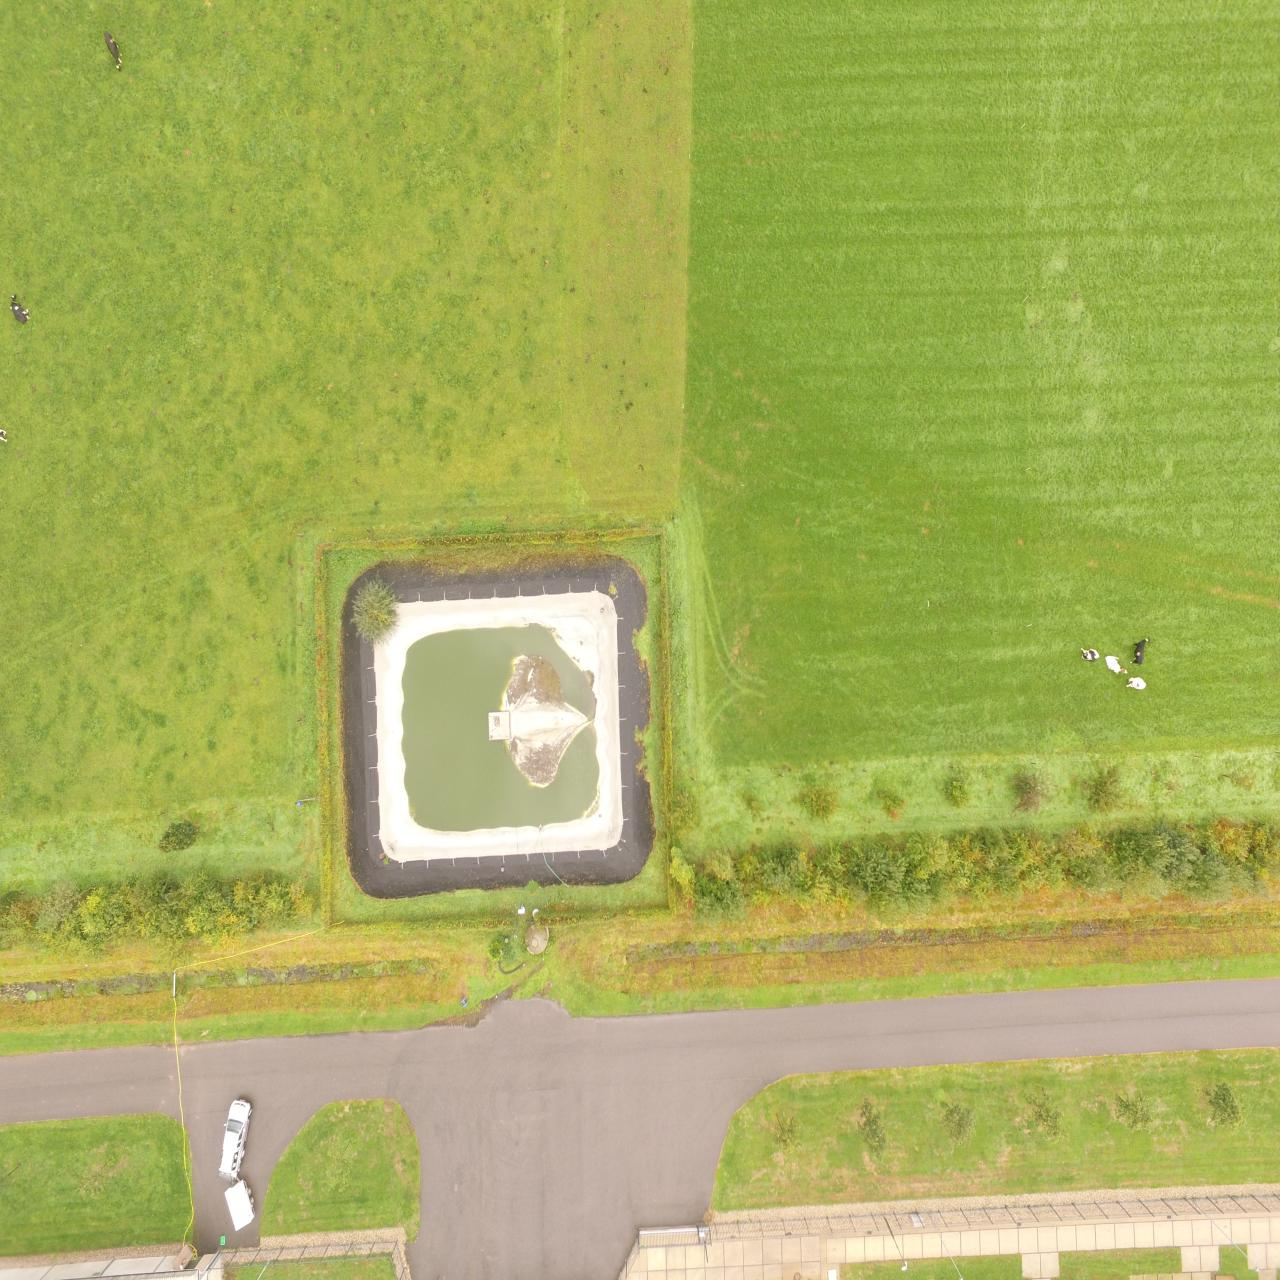cow: (1130, 638, 1150, 666), (1104, 655, 1128, 674), (1126, 676, 1146, 689), (1080, 647, 1099, 660)
